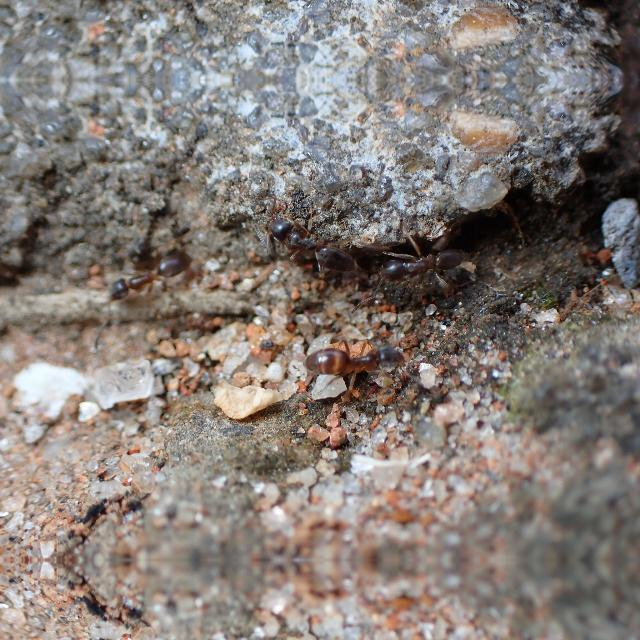Tapinoma: (247, 202, 365, 280), (292, 326, 420, 392), (364, 228, 484, 292), (93, 239, 201, 307)
